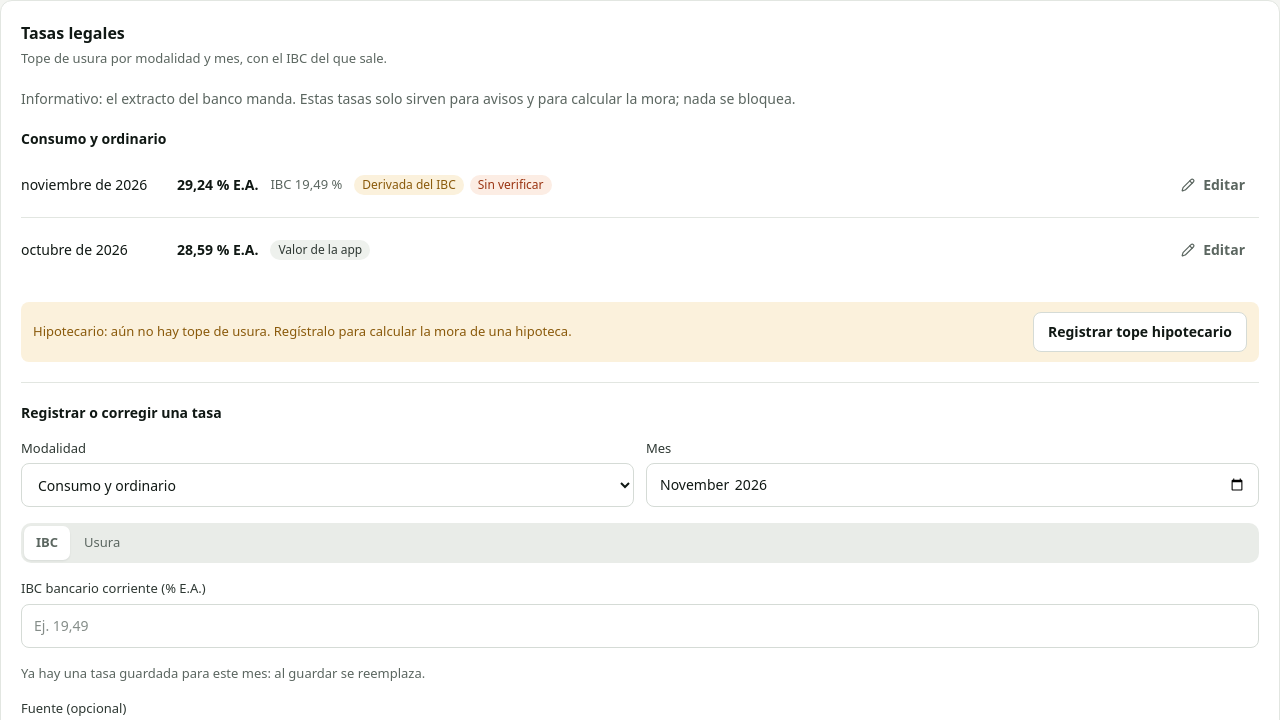
LegalRatesPanel rate form › echoes the derived usury while typing an IBC, before saving anything
The image size is (1280, 720).
Type "19,49" into the field labelled "IBC bancario corriente (% E.A.)" at (640, 626), box top-left (21, 604), bottom-right (1259, 648)
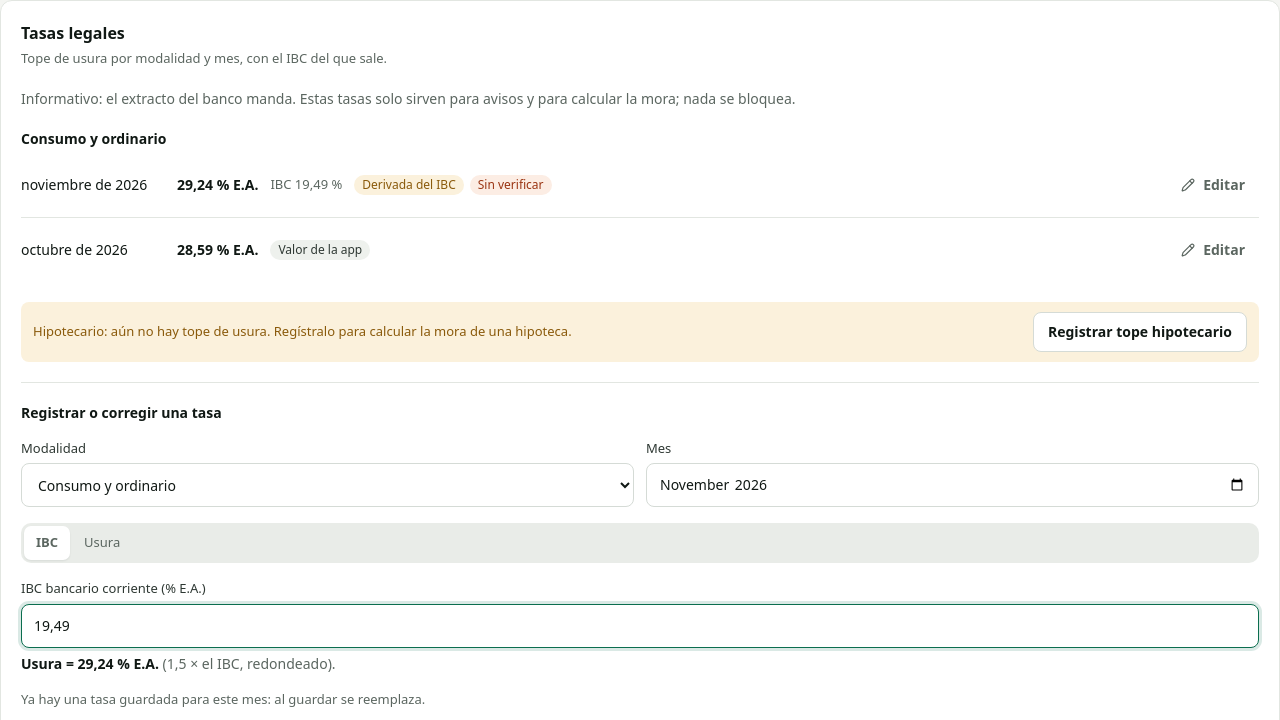
Expected: the text "Usura = 29,24 % E.A." is shown, top-left (21, 654), bottom-right (159, 673)
Replace the text in the field labelled "IBC bancario corriente (% E.A.)" with "19.06" at (640, 626), box top-left (21, 604), bottom-right (1259, 648)
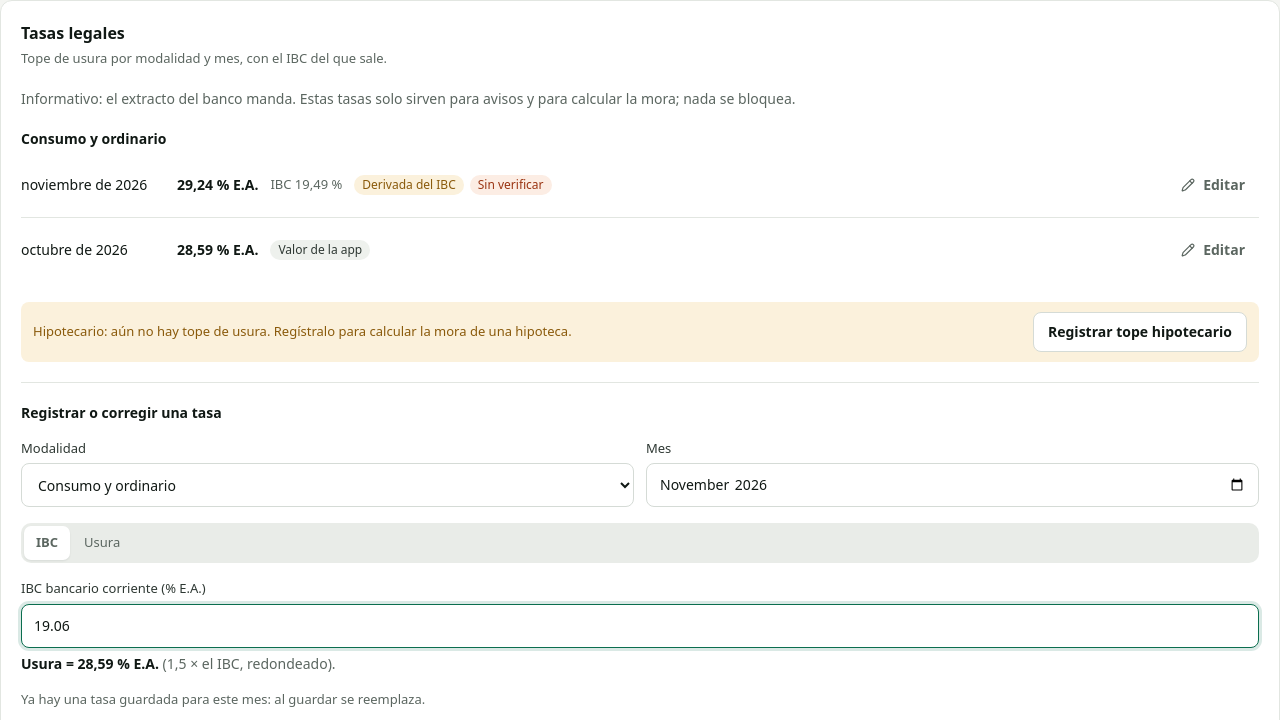
Expected: the text "Usura = 28,59 % E.A." is shown, top-left (21, 654), bottom-right (159, 673)
